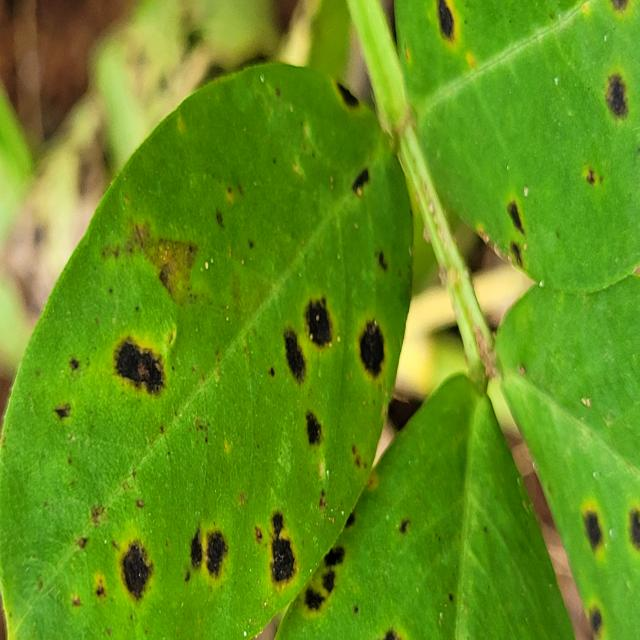Ground nut_tikka leaf spot: (2, 65, 416, 640)
